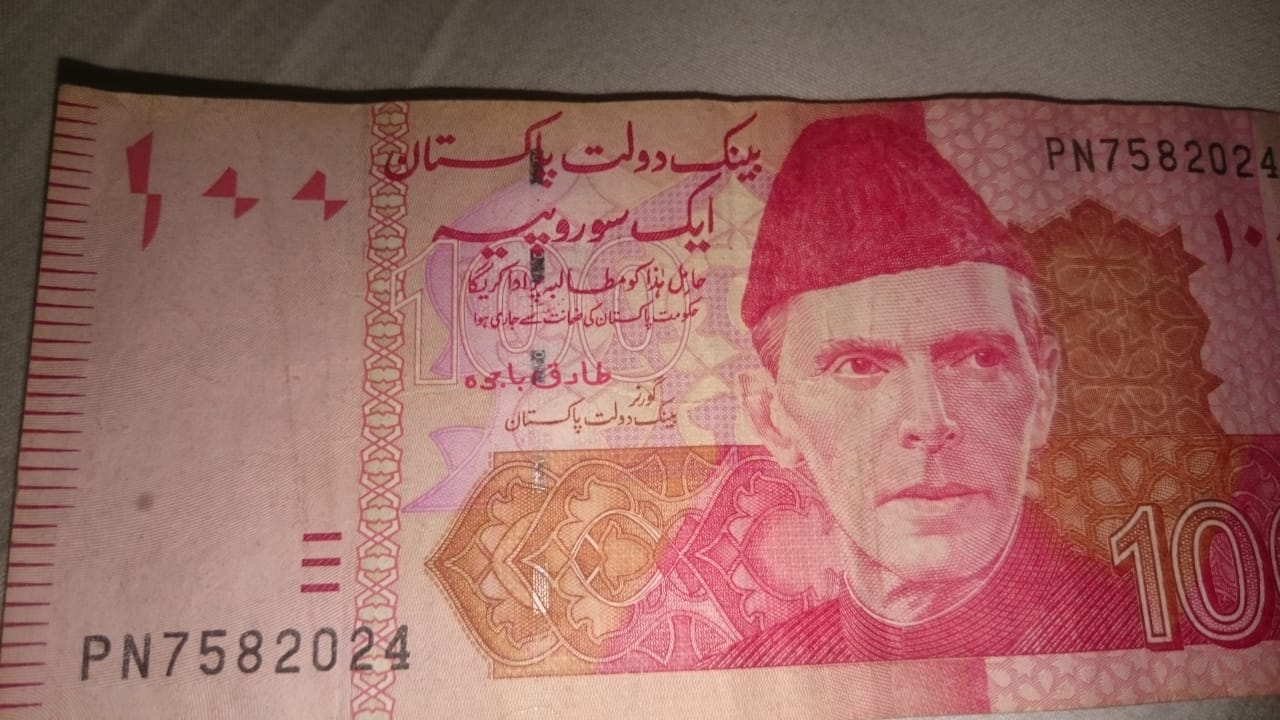100 rupee: (28, 62, 1272, 713)
